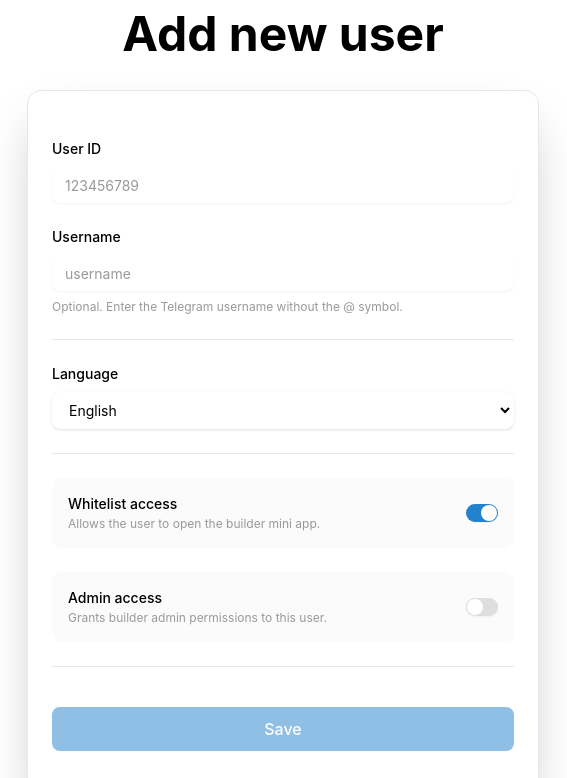
Test: add_user +page.svelte › shows validation error when user id is missing
Type "abc" into the field labelled "User ID" at (283, 185), box [52, 167, 514, 203]
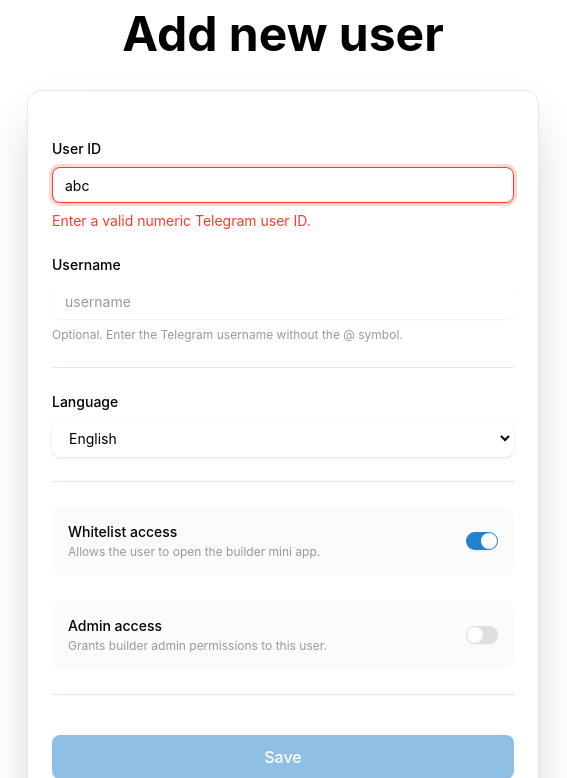
Expected: the button "Save" is disabled, [52, 735, 514, 777]
Result: the message reads "Enter a valid numeric Telegram user ID." at [52, 212, 311, 229]
